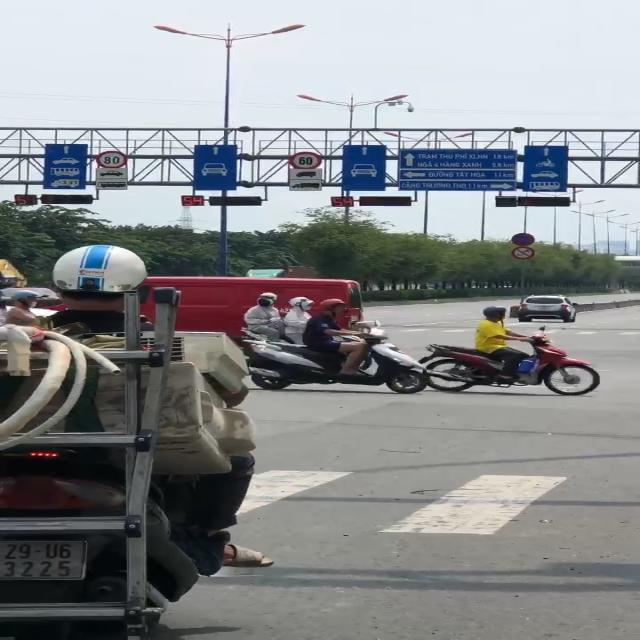Bien bao toc do toi da cho phep: (91, 148, 132, 170), (289, 146, 322, 172)
